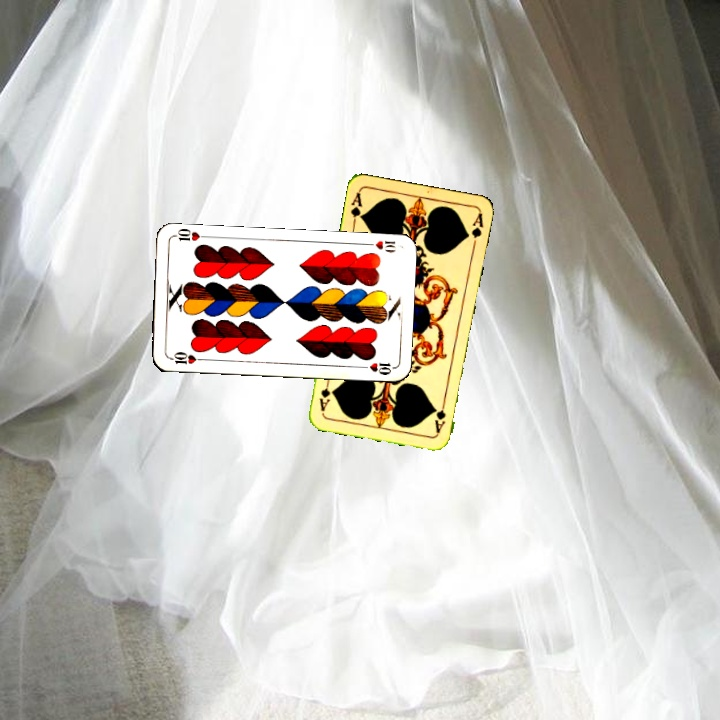GA: (347, 188, 365, 229), (431, 395, 448, 436)
H10: (166, 348, 206, 367), (360, 236, 398, 255)
